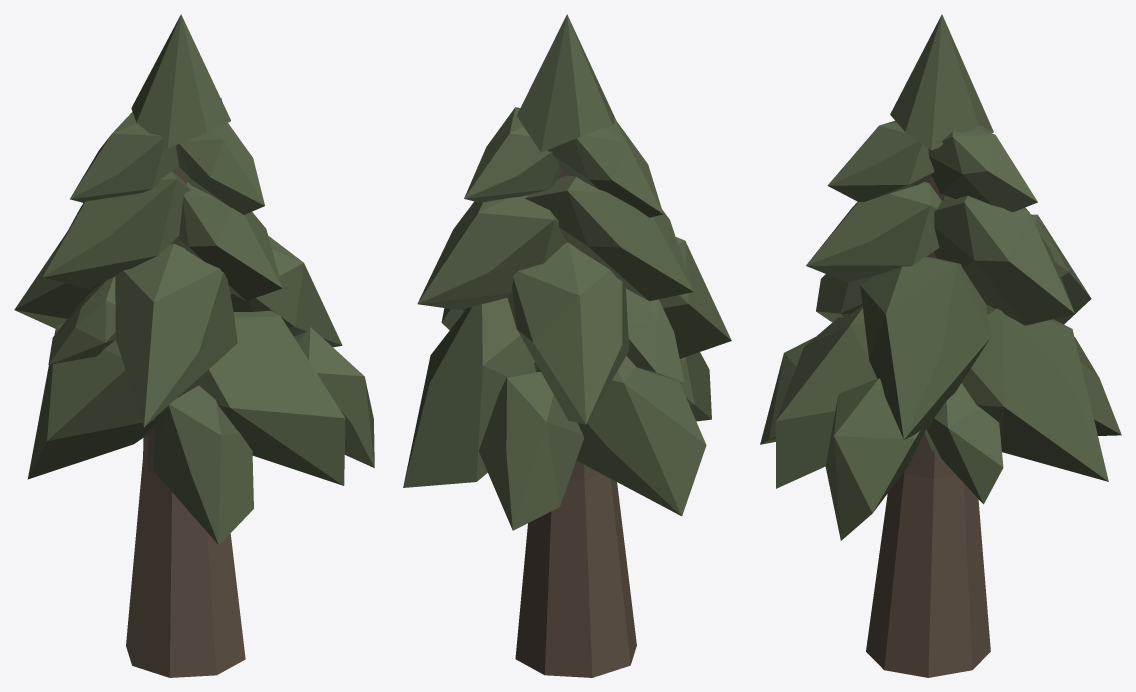
Rendered from ConiferTree1.fbx.
3 views of the same model, side by side, from view 1: azimuth 30°, elevation 25°; view 2: azimuth 150°, elevation 25°; view 3: azimuth 270°, elevation 25° (orthographic).
Parts seen in each view (by area): view 1: tree; view 2: tree; view 3: tree.
Part boxes in pixels (x1,y1,x2,y2): tree: (14, 14, 374, 677); tree: (403, 14, 731, 677); tree: (760, 14, 1121, 677).
Bounding box in the file's own units: 307 × 633 × 325.
